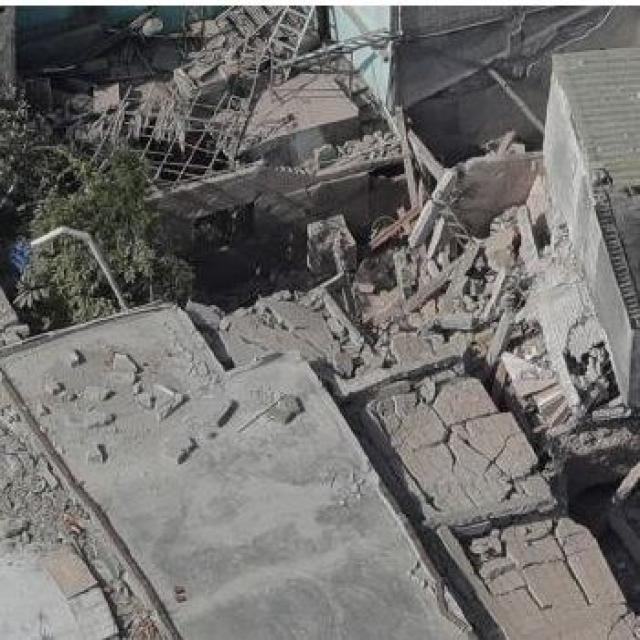collapsed_building: (340, 50, 635, 638), (0, 6, 393, 276)
